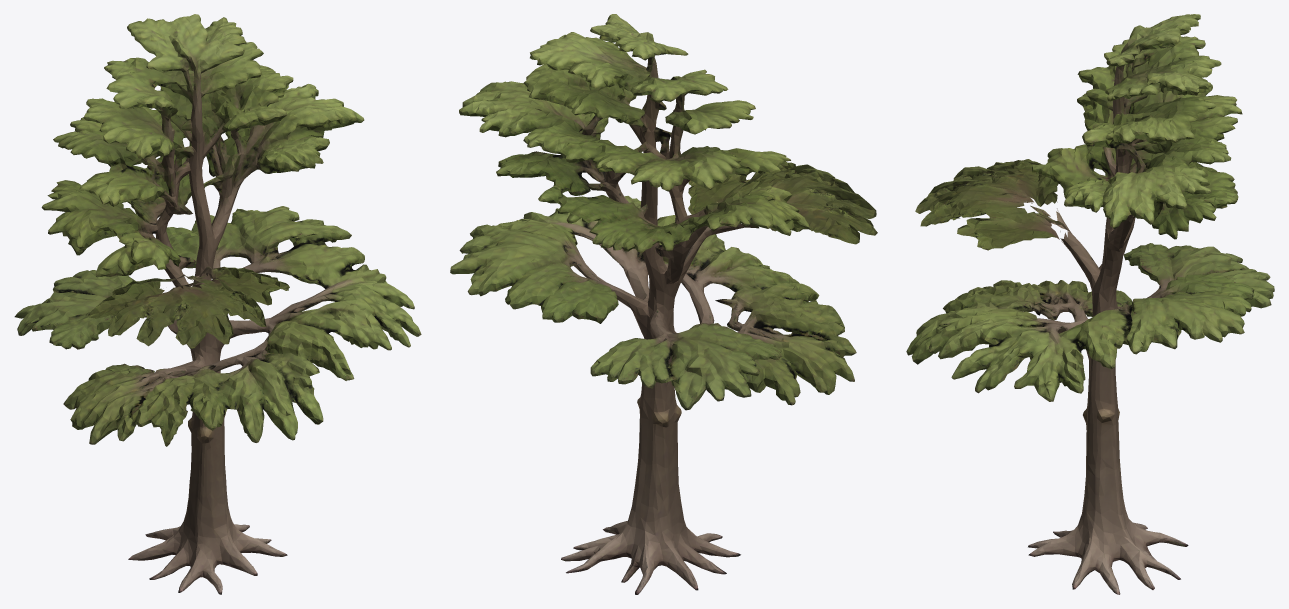
The picture shows the model from 3 angles, left to right: view 1: azimuth 30°, elevation 25°; view 2: azimuth 150°, elevation 25°; view 3: azimuth 270°, elevation 25°; orthographic projection. The views are drawn at different scales.
Parts seen in each view (by area): view 1: world; view 2: world; view 3: world.
Boxes of the visible parts, x1=… form: world: x1=14, y1=14, x2=421, y2=594; world: x1=450, y1=14, x2=877, y2=594; world: x1=906, y1=14, x2=1274, y2=594.
Bounding box in the file's own units: 7.81 × 12 × 7.47.
1 material, 1 textured.
